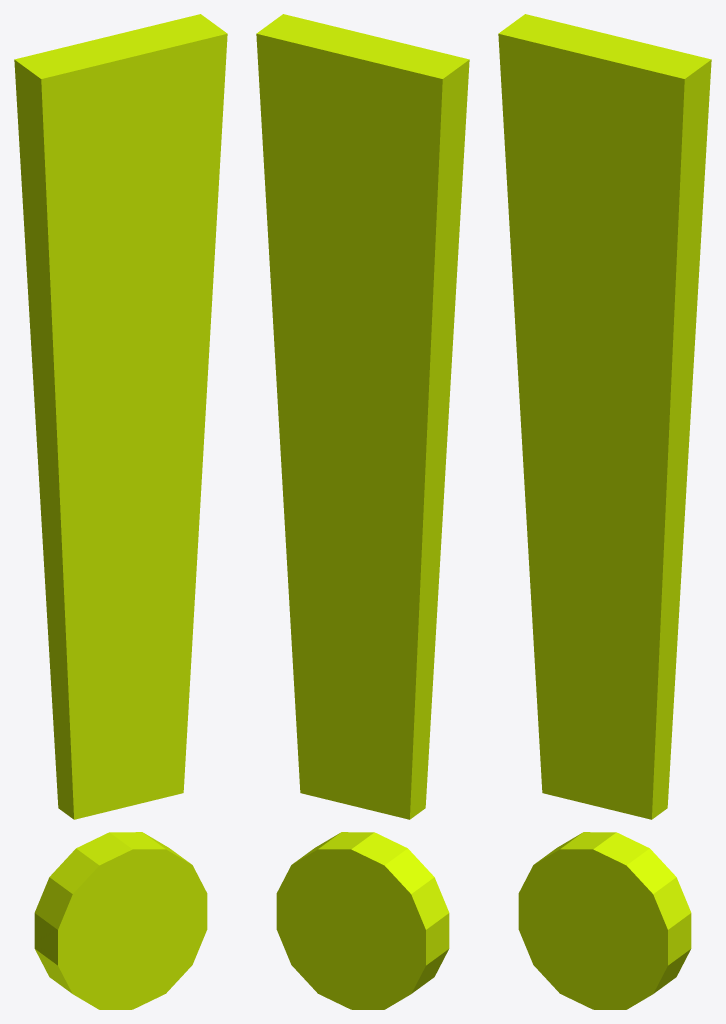
The model's file is Exclamacion.fbx.
3 views of the same model, side by side, from view 1: azimuth 30°, elevation 25°; view 2: azimuth 150°, elevation 25°; view 3: azimuth 330°, elevation 25° (orthographic).
Parts seen in each view (by area): view 1: Exclamacion; view 2: Exclamacion; view 3: Exclamacion.
Boxes of the visible parts, <box> form: Exclamacion: <box>14,14,227,1009</box>; Exclamacion: <box>256,14,469,1009</box>; Exclamacion: <box>498,14,711,1009</box>.
Bounding box in the file's own units: 200 × 979 × 49.98.
